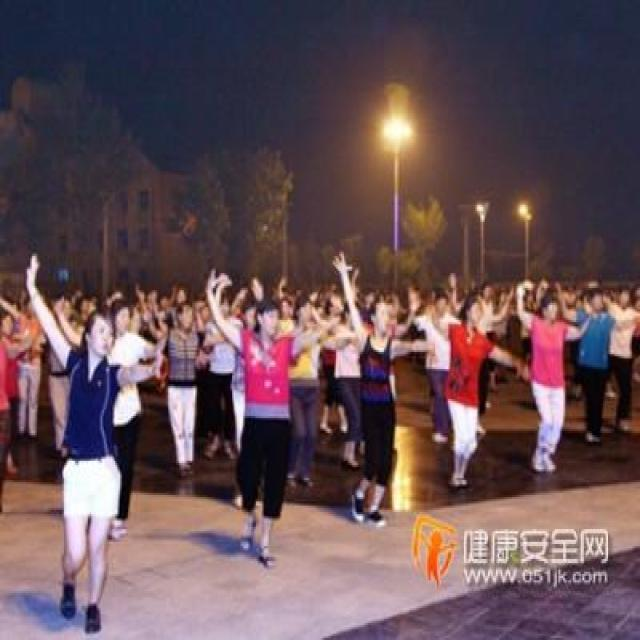non-fight: (18, 275, 164, 638), (216, 258, 318, 572), (330, 252, 432, 525), (437, 286, 529, 490), (518, 285, 590, 471), (562, 286, 618, 442), (203, 297, 242, 465), (41, 290, 73, 451), (17, 291, 41, 446)
